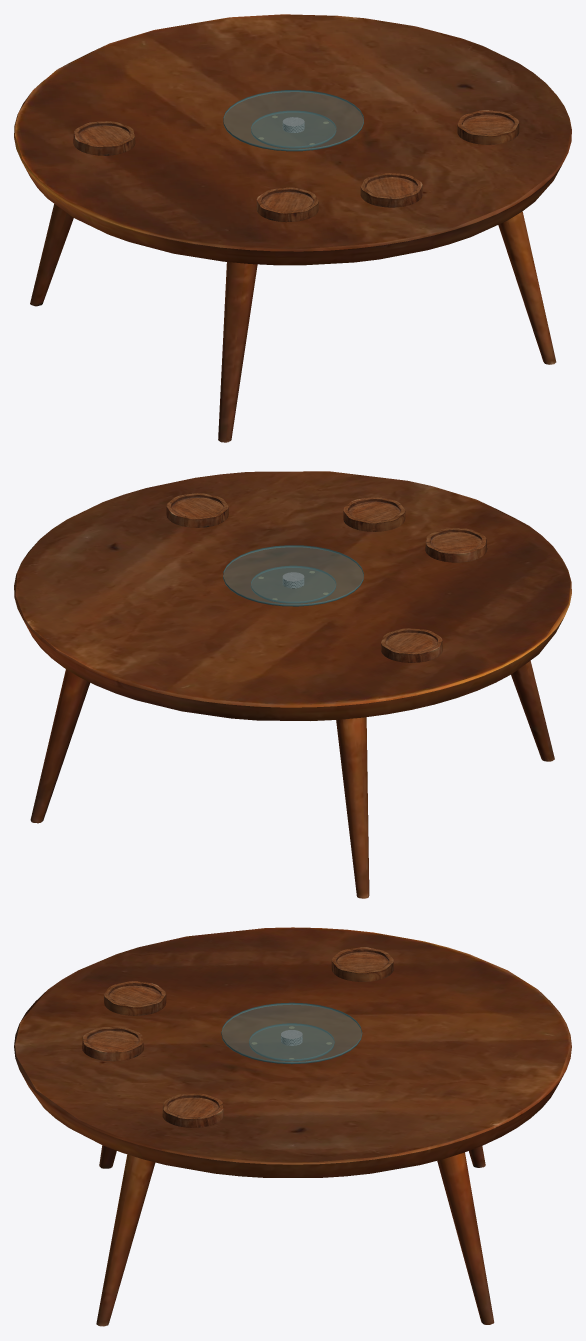
File: coffee_table_4.glb
3 views of the same model, one above another, from view 1: azimuth 30°, elevation 25°; view 2: azimuth 150°, elevation 25°; view 3: azimuth 270°, elevation 25° (orthographic).
Visible parts, largest first — view 1: Object_2, Object_3, Object_6; view 2: Object_2, Object_3, Object_6; view 3: Object_2, Object_3, Object_6.
Part boxes in pixels (x1=…): Object_2: x1=14, y1=14, x2=571, y2=442; Object_3: x1=73, y1=110, x2=519, y2=222; Object_6: x1=223, y1=90, x2=363, y2=151; Object_2: x1=14, y1=471, x2=571, y2=898; Object_3: x1=166, y1=493, x2=487, y2=662; Object_6: x1=223, y1=545, x2=363, y2=606; Object_2: x1=14, y1=927, x2=571, y2=1326; Object_3: x1=82, y1=947, x2=393, y2=1127; Object_6: x1=221, y1=1002, x2=362, y2=1064.
Bounding box in the file's own units: 1.29 × 0.5442 × 1.29.
Materials: 5 (4 with a texture image).
